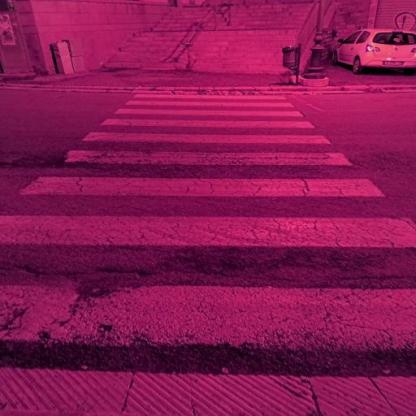crosswalk: (0, 172, 415, 262), (78, 118, 333, 147), (120, 93, 302, 109)
